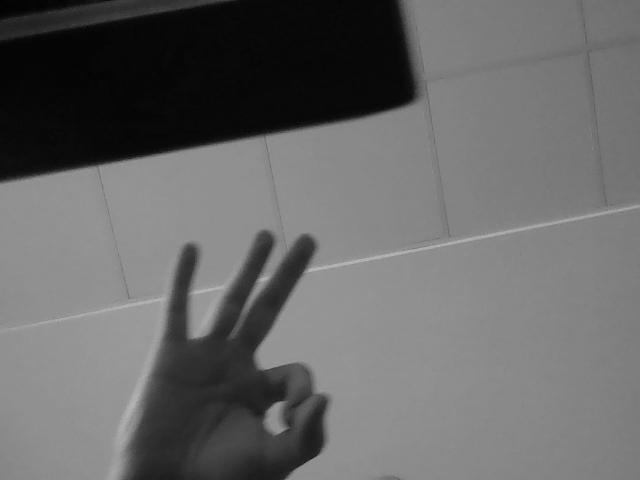OK: (102, 218, 348, 480)
